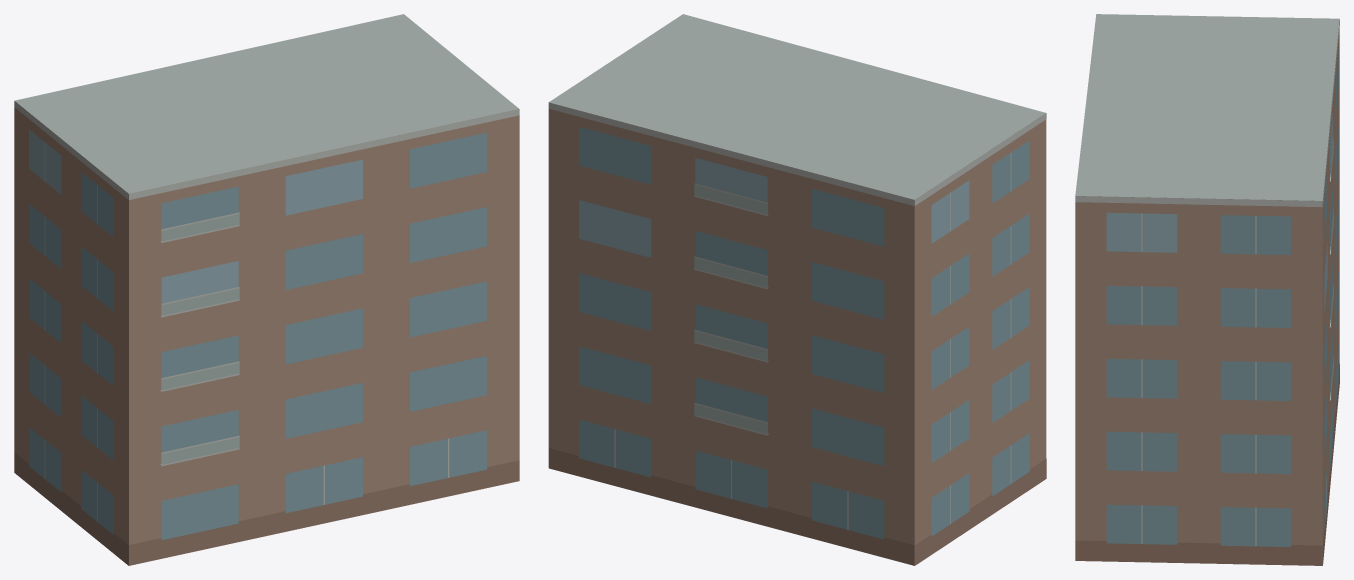
Rendered from survey-upis-32676379.glb.
The picture shows the model from 3 angles, left to right: view 1: azimuth 30°, elevation 25°; view 2: azimuth 150°, elevation 25°; view 3: azimuth 270°, elevation 25°; orthographic projection.
Parts seen in each view (by area): view 1: survey-upis-32676379.tmp; view 2: survey-upis-32676379.tmp; view 3: survey-upis-32676379.tmp.
Part boxes in pixels (x1=…): survey-upis-32676379.tmp: x1=14, y1=14, x2=519, y2=565; survey-upis-32676379.tmp: x1=548, y1=14, x2=1046, y2=565; survey-upis-32676379.tmp: x1=1075, y1=14, x2=1339, y2=565.
Size of the model in its own units: 15.72 by 14.3 by 9.4.
